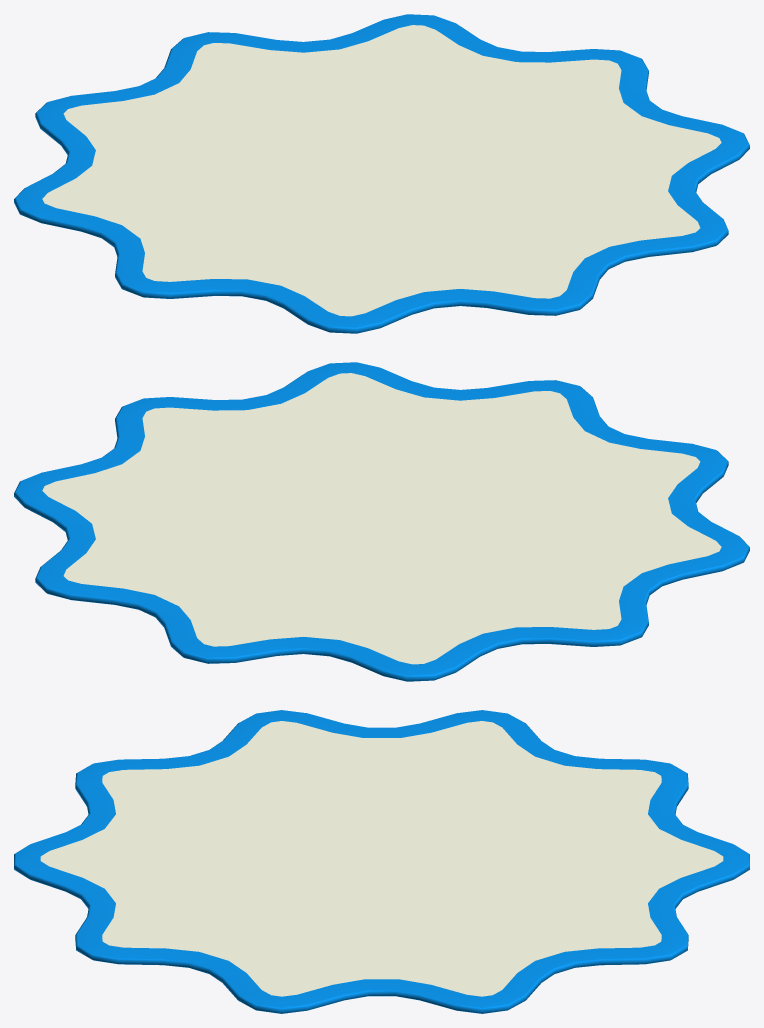
The model's file is Town_20_Napkin_1.glb.
3 renders of one model, top to bottom at view 1: azimuth 30°, elevation 25°; view 2: azimuth 150°, elevation 25°; view 3: azimuth 270°, elevation 25°, orthographic.
Visible parts, largest first — view 1: Town_20_Napkin_1; view 2: Town_20_Napkin_1; view 3: Town_20_Napkin_1.
Part boxes in pixels (x1,y1,x2,y2): Town_20_Napkin_1: (14, 14, 749, 333); Town_20_Napkin_1: (14, 362, 749, 681); Town_20_Napkin_1: (14, 710, 749, 1013).
Bounding box in the file's own units: 0.5841 × 0.00583 × 0.6067.
1 material, 1 textured.
